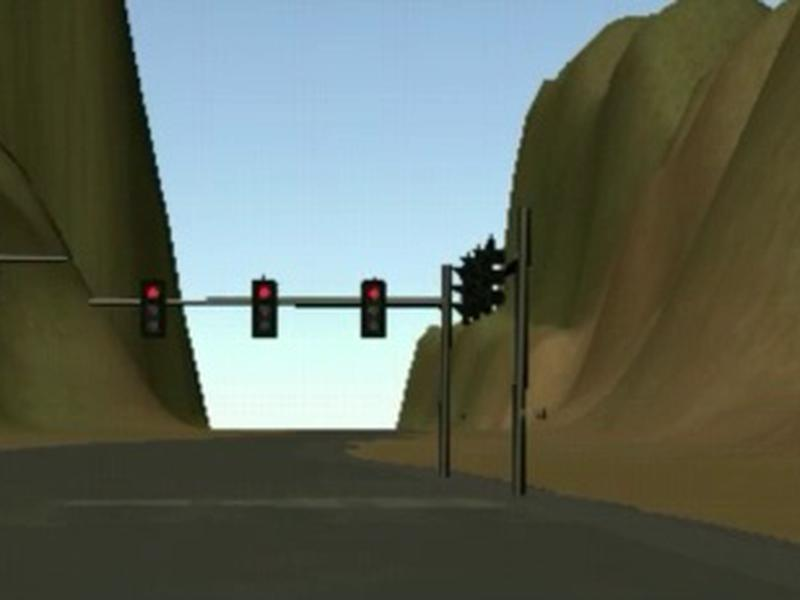Red: (361, 280, 387, 338), (252, 278, 276, 338), (141, 281, 164, 338)
